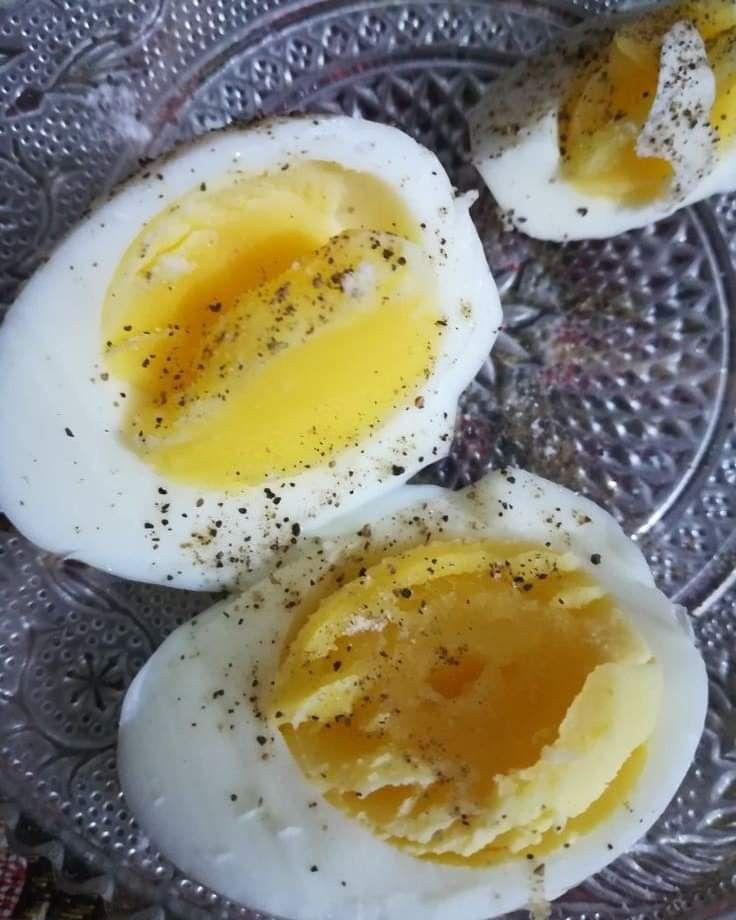eggs: (8, 39, 736, 894)
